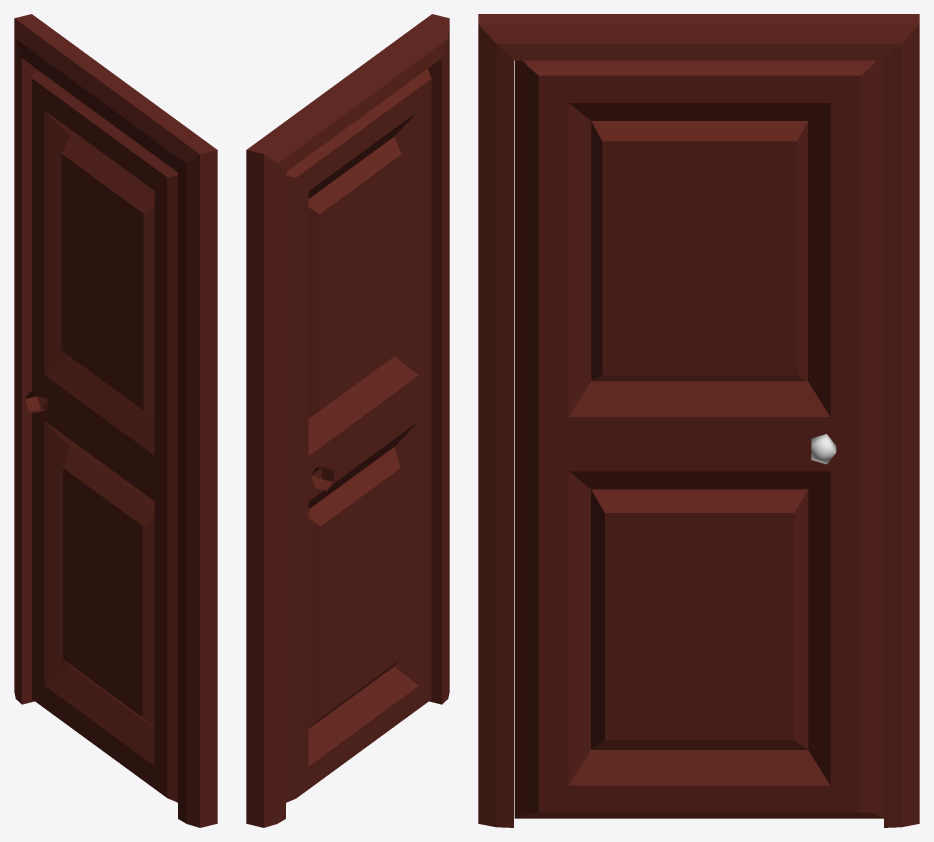
Rendered from Door.fbx.
3 renders of one model, left to right at view 1: azimuth 30°, elevation 25°; view 2: azimuth 150°, elevation 25°; view 3: azimuth 270°, elevation 25°, orthographic. The views are drawn at different scales.
Visible parts, largest first — view 1: Door, DoorFrame; view 2: Door, DoorFrame; view 3: Door, DoorFrame.
Boxes of the visible parts, x1,y1,x2,y2 form: Door: (25, 68, 177, 802); DoorFrame: (14, 14, 217, 827); Door: (286, 68, 431, 802); DoorFrame: (246, 14, 449, 827); Door: (514, 60, 883, 818); DoorFrame: (478, 14, 919, 827).
Size of the model in its own units: 48.11 by 400 by 200.
